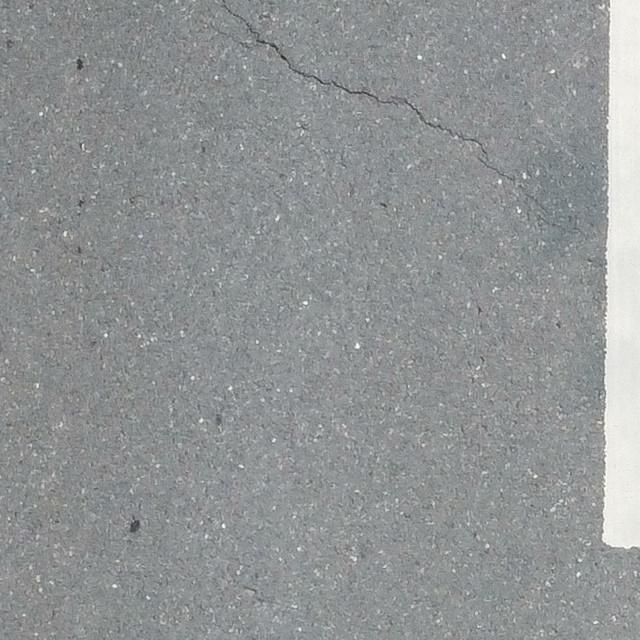TransverseCrack: (219, 2, 548, 212)
